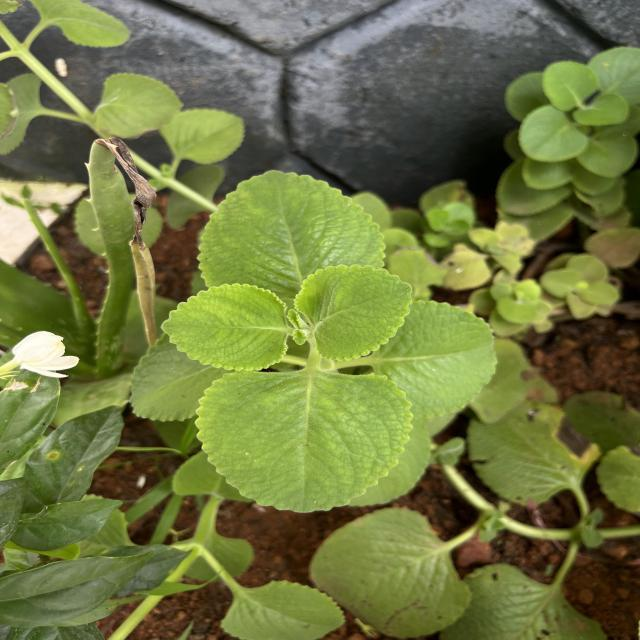Plectranthus barbatus: (195, 368, 416, 514), (196, 168, 388, 288), (306, 506, 474, 640), (372, 298, 499, 421), (293, 263, 414, 362), (159, 282, 289, 373), (219, 578, 347, 640), (93, 72, 185, 140), (158, 108, 246, 166), (516, 104, 590, 164), (539, 60, 598, 112)
